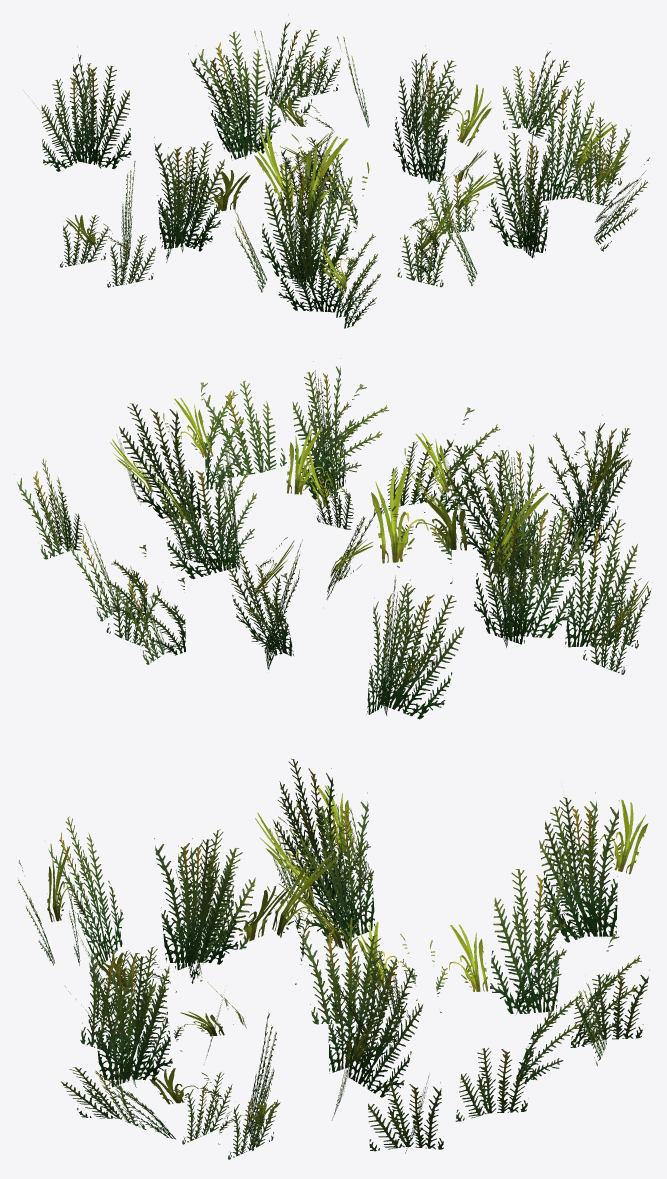
The model's file is 4002_Item_hua_7.FBX.
The picture shows the model from 3 angles, top to bottom: view 1: azimuth 30°, elevation 25°; view 2: azimuth 150°, elevation 25°; view 3: azimuth 270°, elevation 25°; orthographic projection. The views are drawn at different scales.
Parts seen in each view (by area): view 1: 4002_Item_hua_7; view 2: 4002_Item_hua_7; view 3: 4002_Item_hua_7.
Part boxes in pixels (left/top/right/bottom): 4002_Item_hua_7: left=23, top=14, right=649, bottom=328; 4002_Item_hua_7: left=14, top=358, right=652, bottom=719; 4002_Item_hua_7: left=18, top=758, right=649, bottom=1159.
Size of the model in its own units: 43646 by 10268 by 37818.
